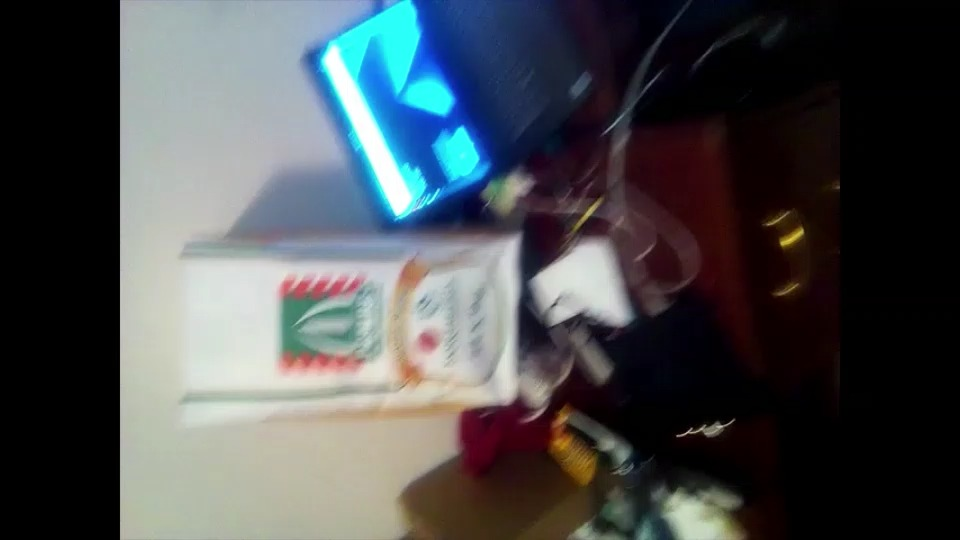maize_flour_green_label: (177, 243, 520, 409)
